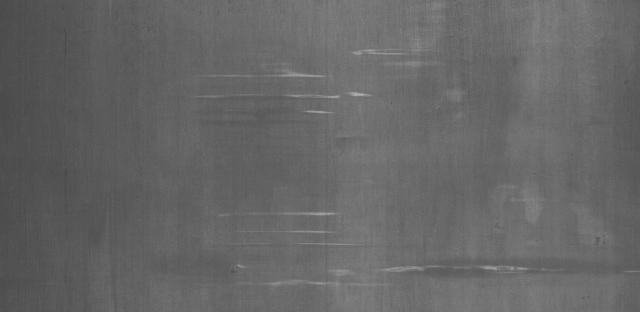waist_folding: (101, 54, 494, 304)
